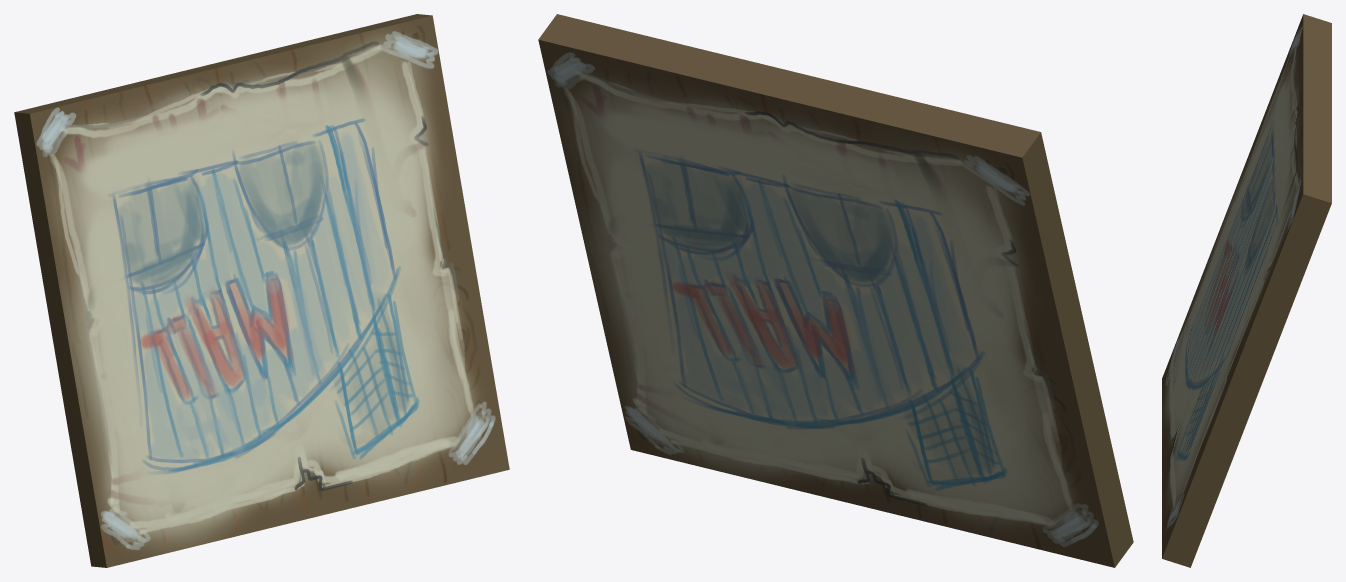
Rendered from panneau_supermarket.glb.
3 views of the same model, side by side, from view 1: azimuth 30°, elevation 25°; view 2: azimuth 150°, elevation 25°; view 3: azimuth 270°, elevation 25° (orthographic). The views are drawn at different scales.
Parts seen in each view (by area): view 1: Cube; view 2: Cube; view 3: Cube.
Part boxes in pixels (box(x1,y1,x2,y2)): Cube: box(14, 14, 509, 567); Cube: box(538, 14, 1133, 567); Cube: box(1162, 14, 1331, 567).
Bounding box in the file's own units: 2.95 × 2.85 × 1.17.
1 material, 1 textured.
